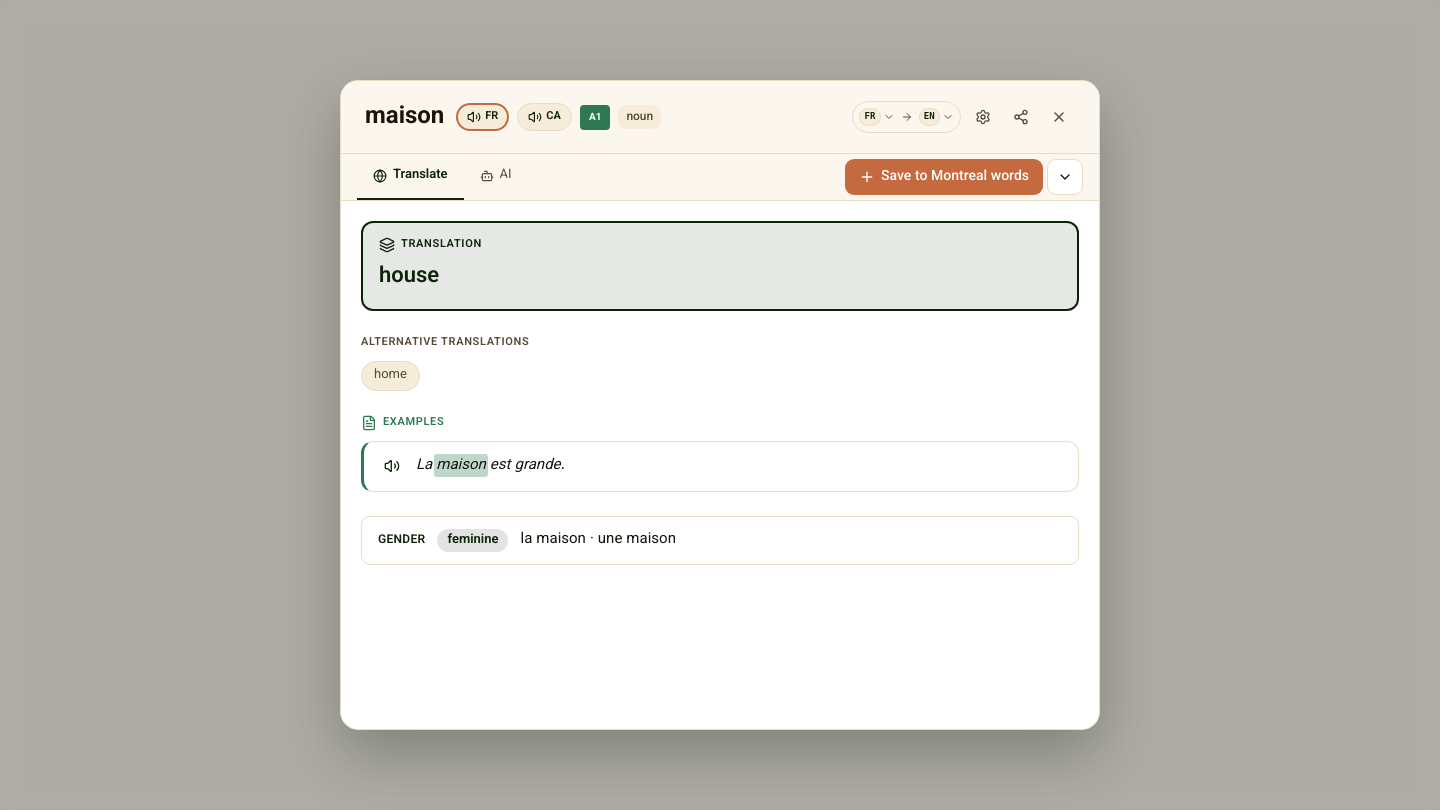
Test: word dialog: saving › a failed save stays in the dialog with the error inline
Expected: the text "house" is shown, [379,259,439,294]
Click the button "Save to Montreal words" at coordinates (944, 177), box [845,159,1043,195]
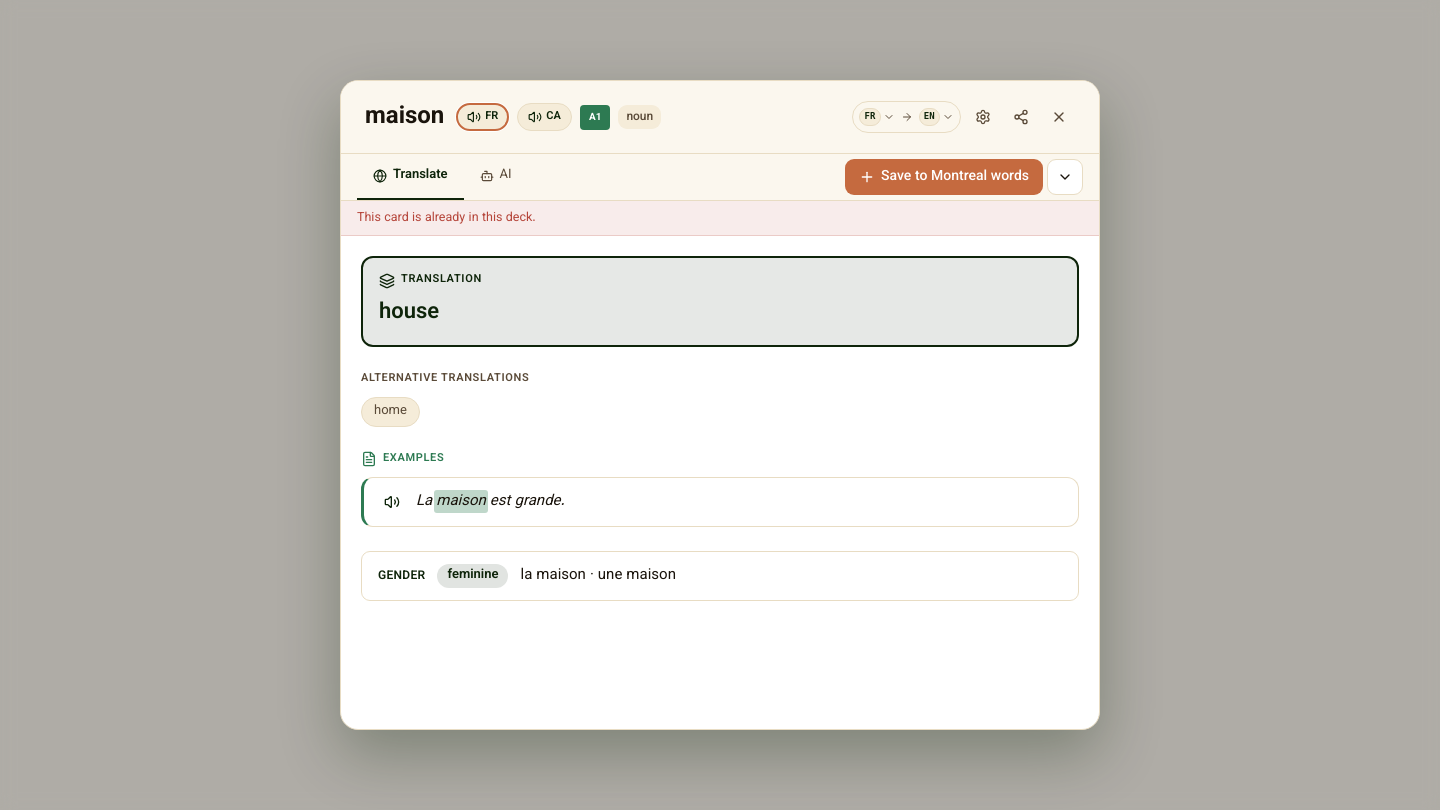
Now the message shows "already in this deck", box [357,208,536,228]
